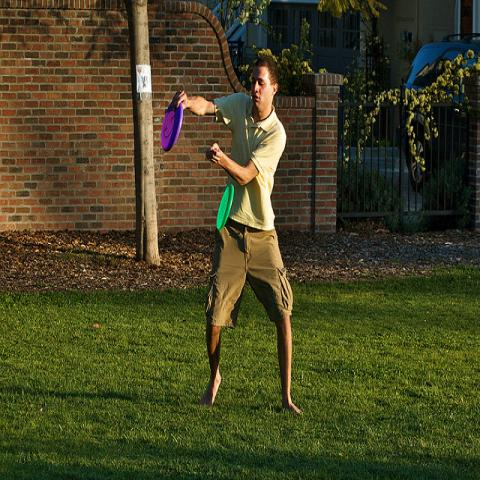car: (405, 34, 479, 189)
